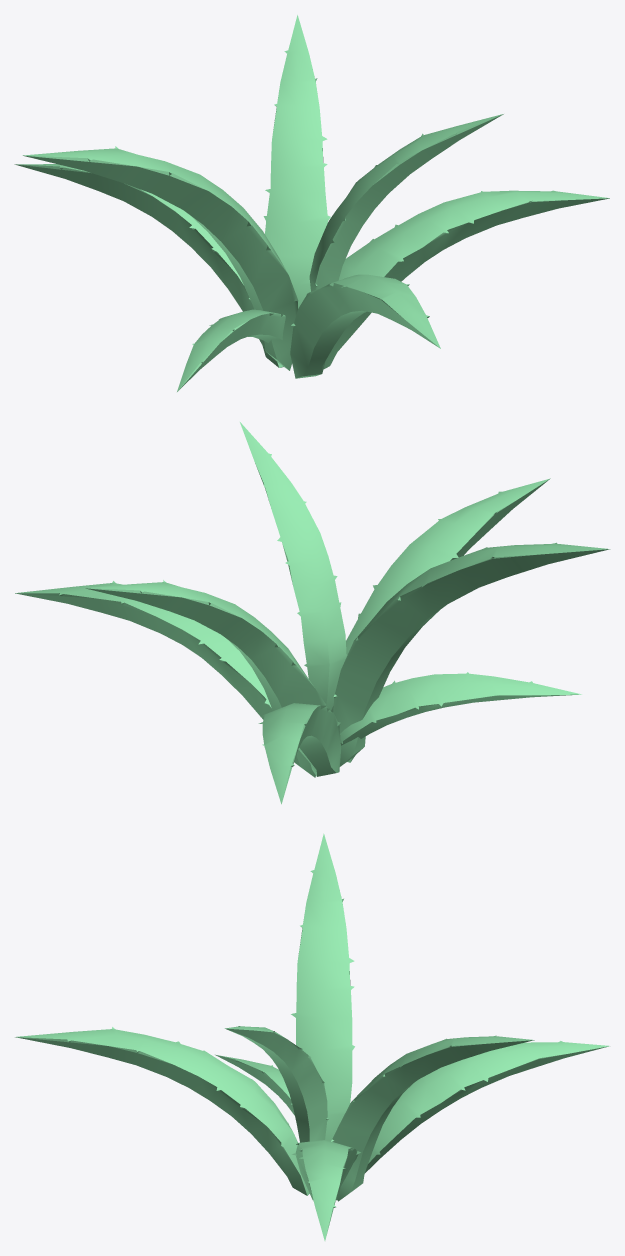
File: aloe.obj
The picture shows the model from 3 angles, top to bottom: view 1: azimuth 30°, elevation 25°; view 2: azimuth 150°, elevation 25°; view 3: azimuth 270°, elevation 25°; orthographic projection. The views are drawn at different scales.
Parts seen in each view (by area): view 1: Aloe._01_aloe.001; view 2: Aloe._01_aloe.001; view 3: Aloe._01_aloe.001.
Boxes of the visible parts, x1,y1,x2,y2 form: Aloe._01_aloe.001: [14, 15, 609, 391]; Aloe._01_aloe.001: [15, 422, 610, 804]; Aloe._01_aloe.001: [15, 833, 609, 1240].
Bounding box in the file's own units: 128 × 58.98 × 130.
1 material, 1 textured.
